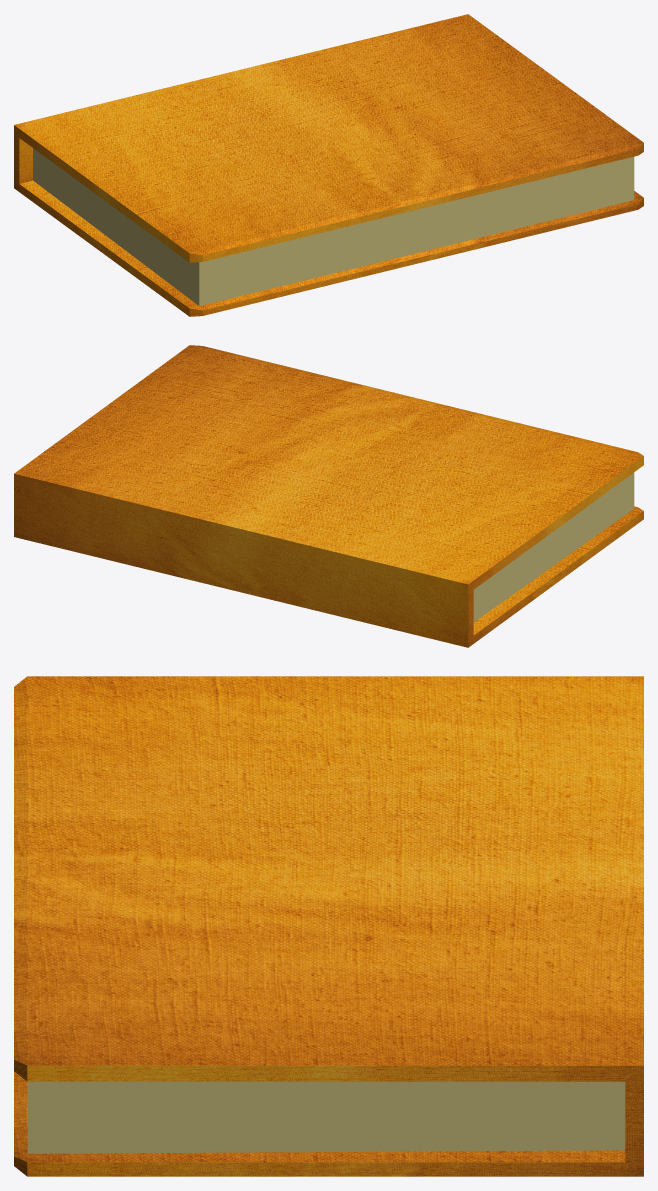
The model's file is Tome_Closed.gltf.
The picture shows the model from 3 angles, top to bottom: view 1: azimuth 30°, elevation 25°; view 2: azimuth 150°, elevation 25°; view 3: azimuth 270°, elevation 25°; orthographic projection. The views are drawn at different scales.
Visible parts, largest first — view 1: Book_Clothbound; view 2: Book_Clothbound; view 3: Book_Clothbound.
Boxes of the visible parts, x1,y1,x2,y2 form: Book_Clothbound: (14,14,643,316); Book_Clothbound: (14,345,643,647); Book_Clothbound: (14,676,643,1176).
Size of the model in its own units: 2 by 0.2663 by 1.37.
